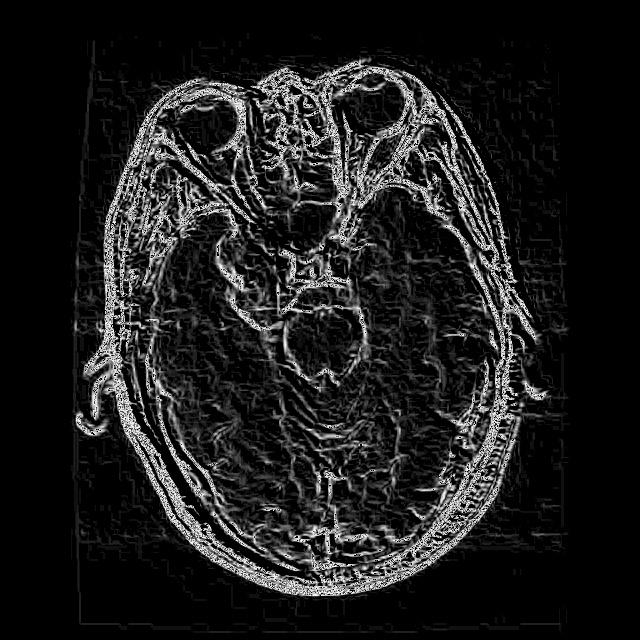Brain-Tumor: (218, 216, 282, 336)
eye: (154, 72, 260, 222), (326, 64, 423, 218)
